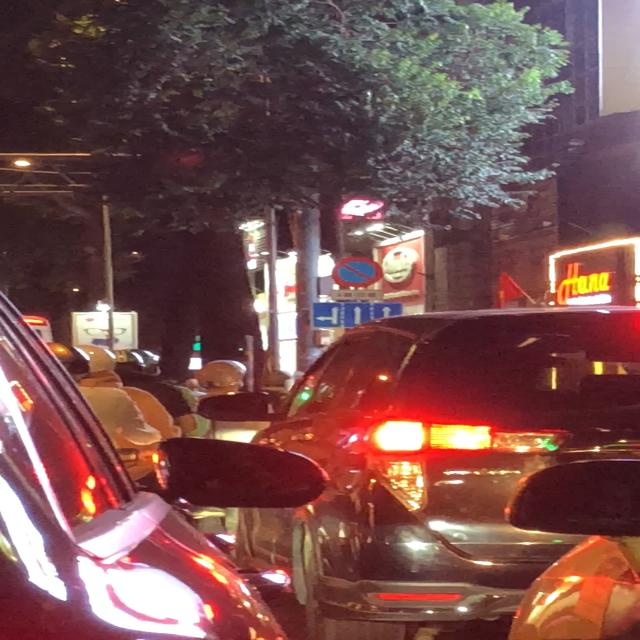Bien bao cam do xe: (329, 256, 382, 290)
